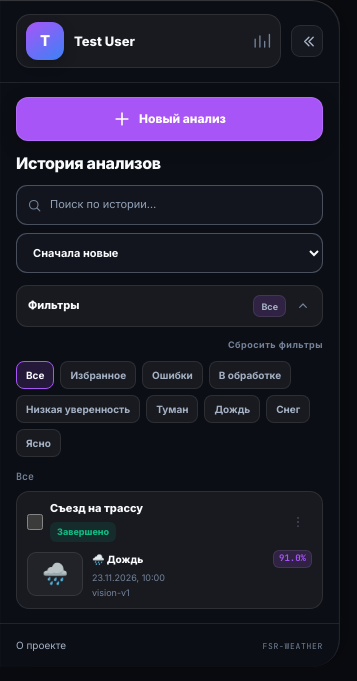
Scenario: History sidebar actions menu › toggles the filter accordion from the full header row
Expected: the element named "Фильтры истории" is shown, [16,361,323,457]
Click the button with aria-label "Фильтры. Текущий фильтр: Все".
click(54, 305)  # box [16,285,323,327]
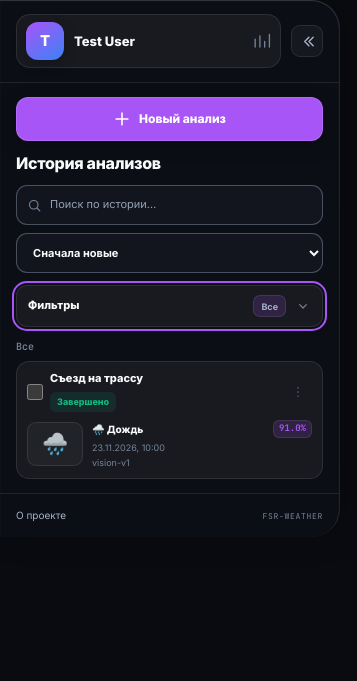
Now the button with aria-label "Фильтры. Текущий фильтр: Все" is collapsed
Click the button with aria-label "Фильтры. Текущий фильтр: Все".
click(54, 305)  # box [16,285,323,327]
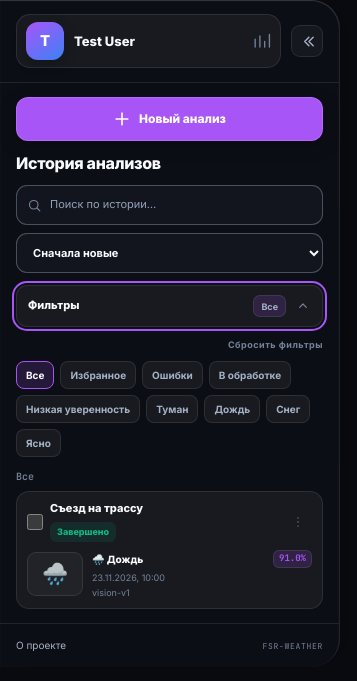
Now the button with aria-label "Фильтры. Текущий фильтр: Все" is expanded, box [16,285,323,327]
Now the element named "Фильтры истории" is shown, box [16,361,323,457]
